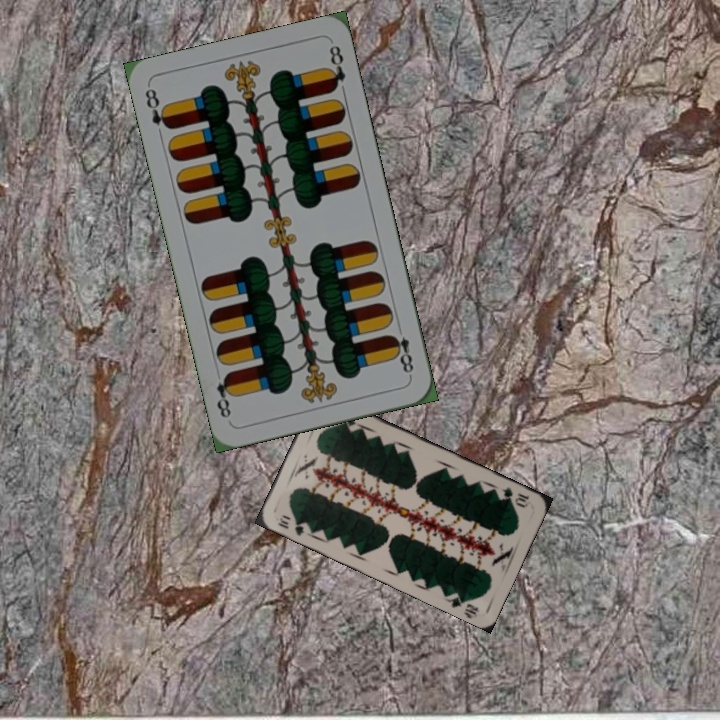E8: (141, 84, 174, 132), (386, 330, 416, 380)
G10: (273, 511, 313, 538), (497, 483, 533, 510)
